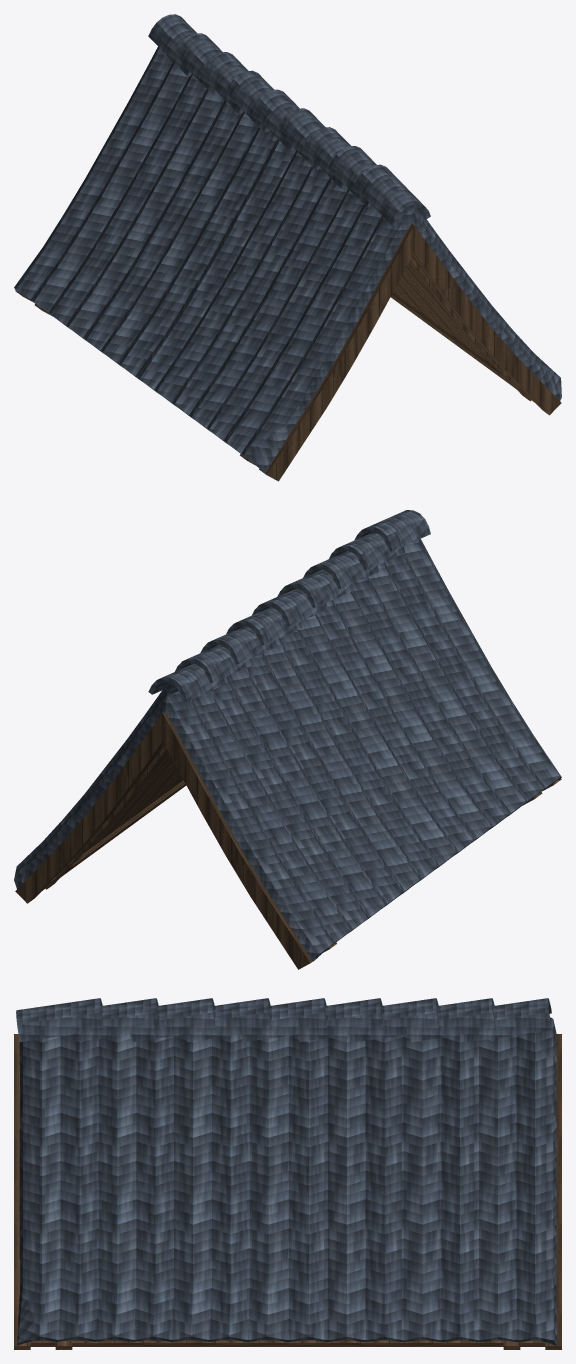
The model's file is Roof_Slate_4x6.gltf.
3 renders of one model, top to bottom at view 1: azimuth 30°, elevation 25°; view 2: azimuth 150°, elevation 25°; view 3: azimuth 270°, elevation 25°, orthographic. The views are drawn at different scales.
Parts seen in each view (by area): view 1: Roof_Slate_4x6; view 2: Roof_Slate_4x6; view 3: Roof_Slate_4x6.
Part boxes in pixels (<box>): Roof_Slate_4x6: <box>14,14,561,481</box>; Roof_Slate_4x6: <box>14,510,561,969</box>; Roof_Slate_4x6: <box>14,998,561,1349</box>.
Size of the model in its own units: 5.51 by 4.23 by 7.57.
2 materials, 2 textured.
